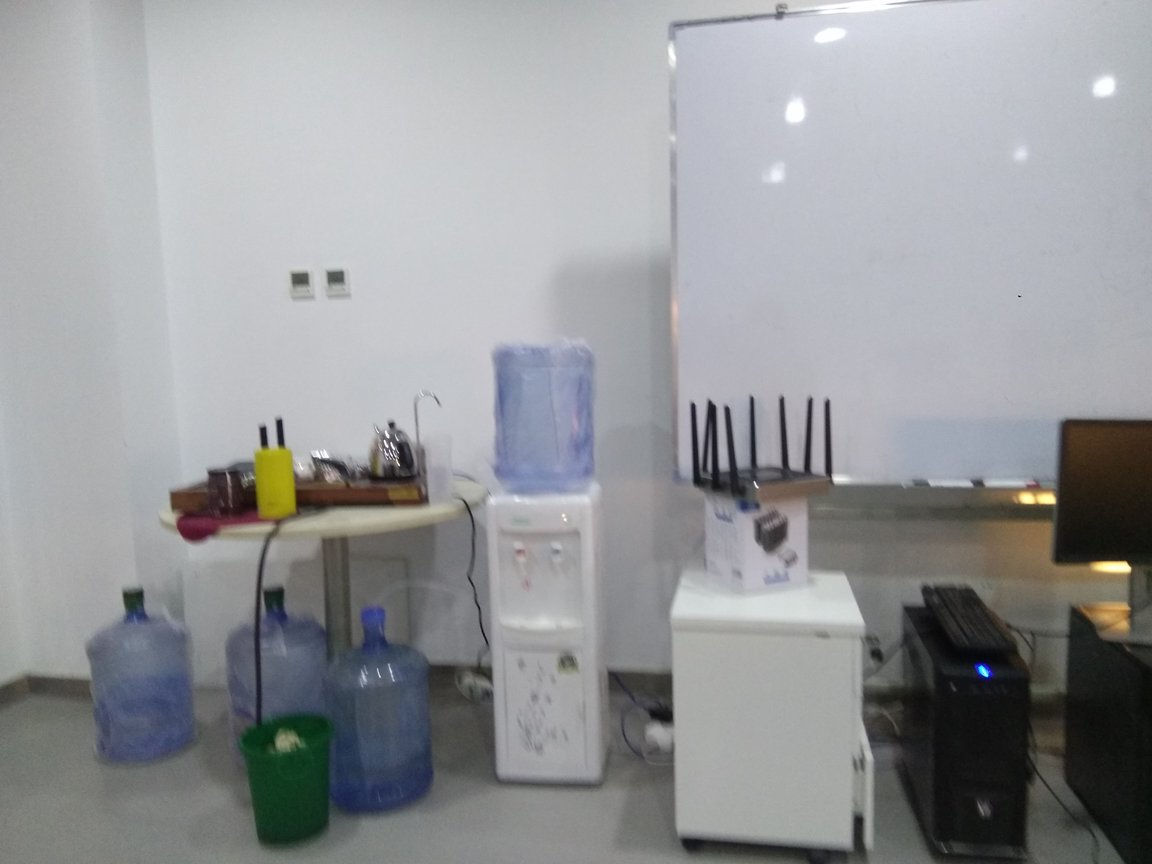computer: (884, 594, 1032, 864), (1070, 591, 1151, 864)
drawer chest: (675, 554, 880, 864)
monitor: (1040, 407, 1152, 647)
scuttlebutt: (331, 610, 436, 818), (83, 581, 203, 763), (481, 329, 598, 505), (225, 587, 327, 772)
water dispenser: (487, 482, 621, 794)
